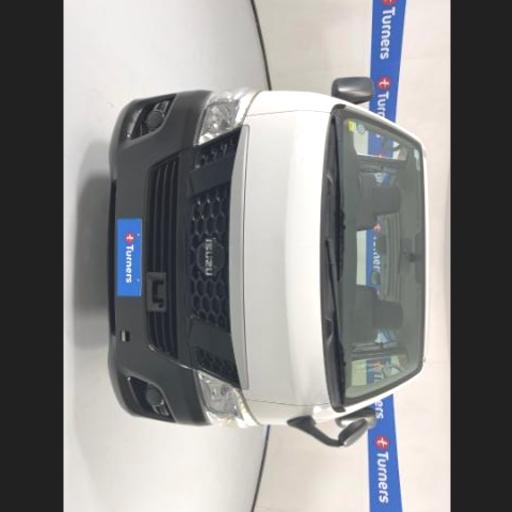van: (111, 77, 427, 444)
